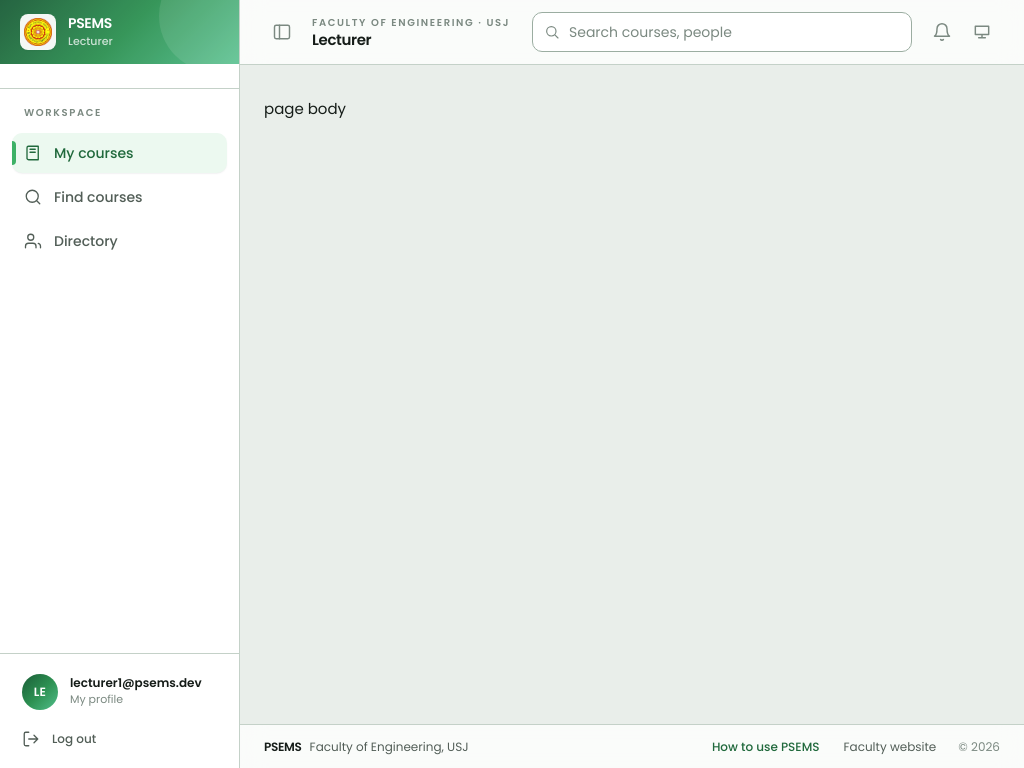
AppShell › sidebar collapse › collapses, hides the labels in the rail and remembers the choice
The image size is (1024, 768).
What coordinates should you click on to do the following:
click the button named "Collapse the sidebar"
I would click on:
 (282, 32)
Its box is [264,14,300,50].
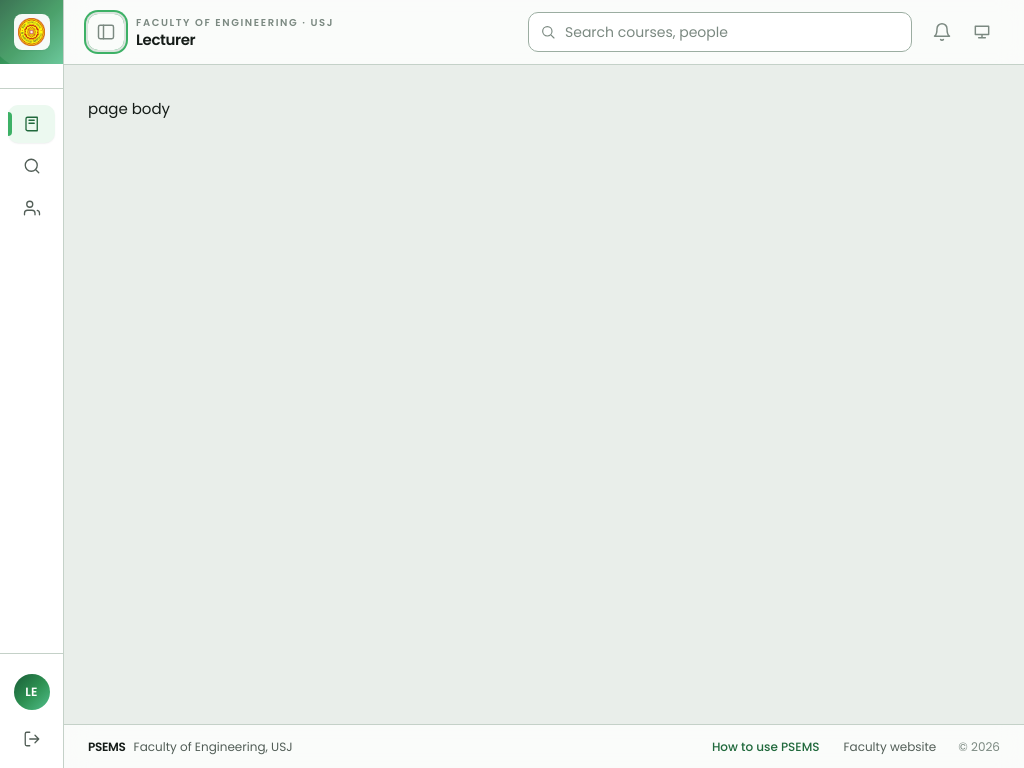
Expected: the link named "My courses" no longer shows "My courses", [8,105,55,143]
Expected: the button named "Expand the sidebar" is shown, [88,14,124,50]
